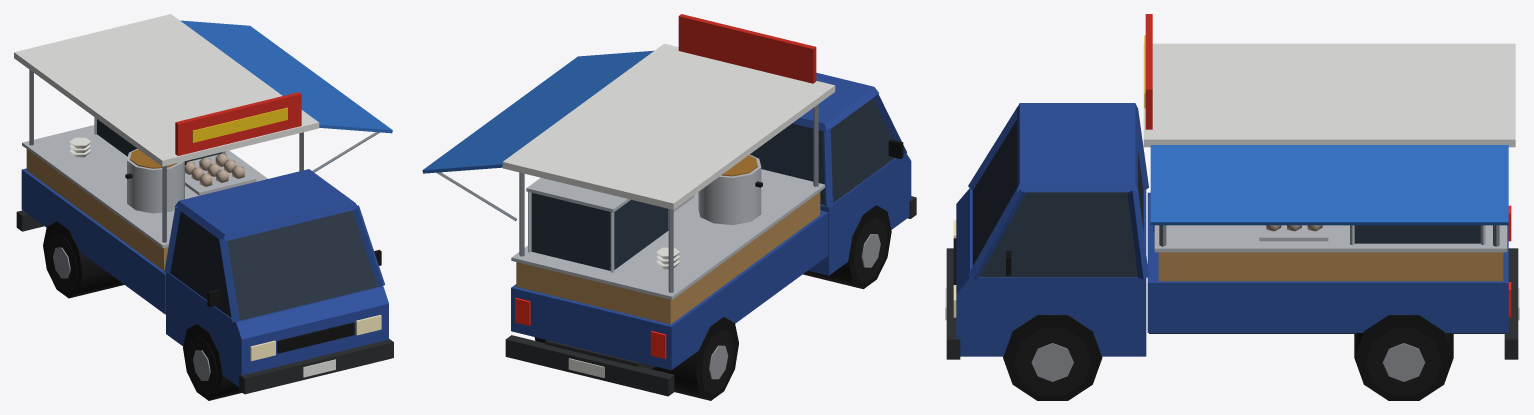
File: mobil_bakso.glb
3 views of the same model, side by side, from view 1: azimuth 30°, elevation 25°; view 2: azimuth 150°, elevation 25°; view 3: azimuth 270°, elevation 25° (orthographic). The views are drawn at different scales.
Visible parts, largest first — view 1: body, wheel_fr, wheel_rr; view 2: body, wheel_fr, wheel_rr; view 3: body, wheel_rl, wheel_fl.
Boxes of the visible parts, x1,y1,x2,y2 form: body: [14, 14, 393, 400]; wheel_fr: [187, 335, 217, 395]; wheel_rr: [47, 233, 77, 292]; body: [422, 14, 916, 400]; wheel_fr: [853, 218, 887, 283]; wheel_rr: [701, 329, 734, 394]; body: [945, 14, 1519, 400]; wheel_rl: [1365, 328, 1442, 395]; wheel_fl: [1014, 328, 1091, 395].
Bounding box in the file's own units: 2.53 × 2.43 × 4.17.
1 material, 1 textured.
